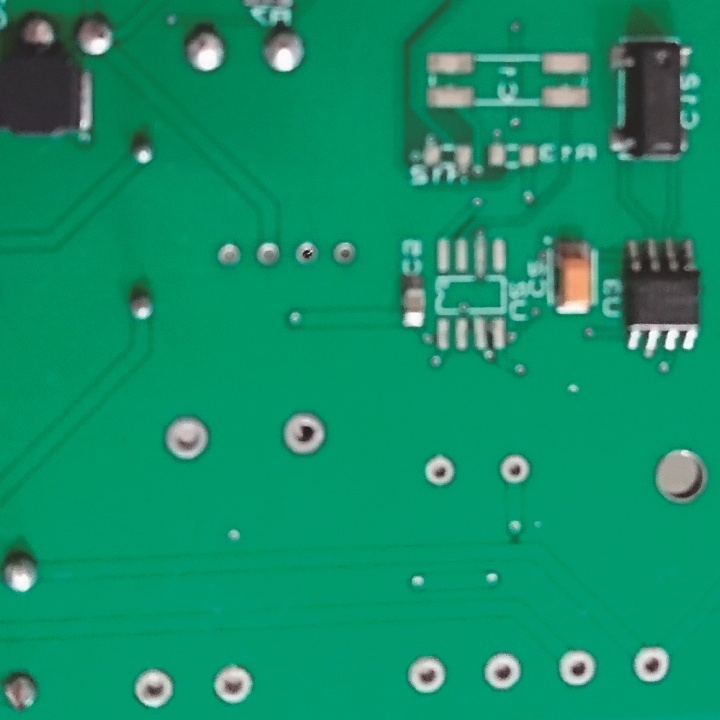F: (161, 413, 210, 463), (281, 408, 326, 461), (482, 647, 527, 695), (209, 660, 254, 708), (130, 666, 179, 710), (628, 640, 673, 687), (554, 644, 599, 690), (405, 653, 450, 698), (420, 449, 461, 489), (496, 453, 529, 484), (213, 240, 245, 271), (329, 238, 359, 270), (254, 240, 284, 270), (293, 239, 322, 269)
